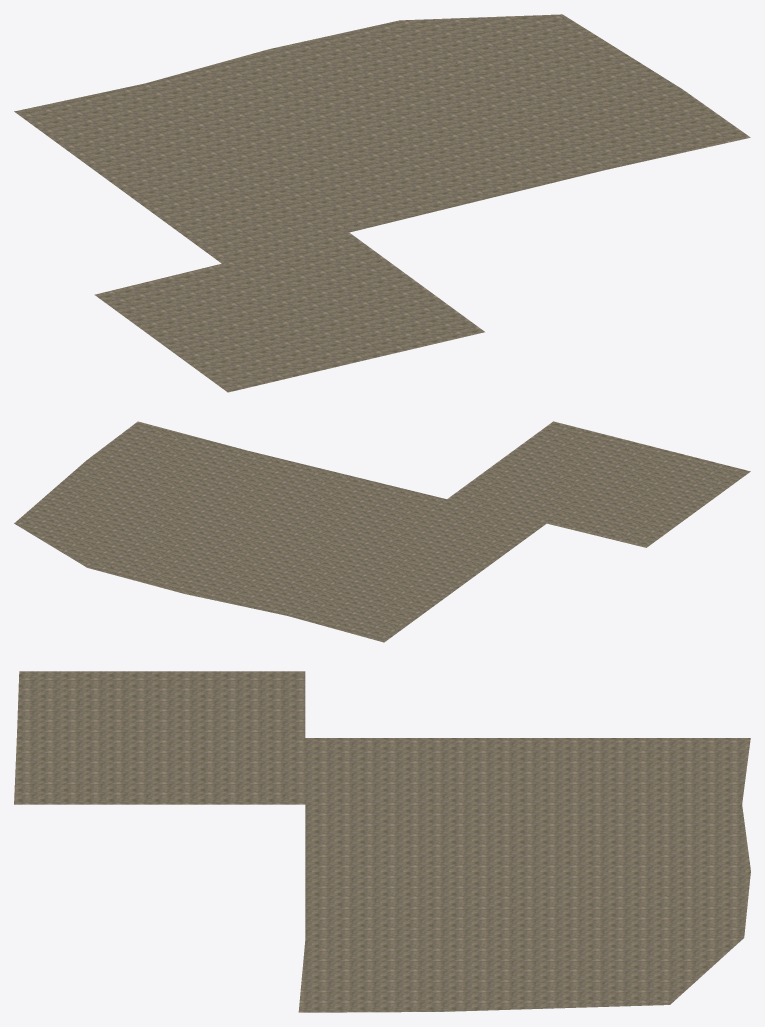
The model's file is cuntwland17_de_a.obj.
The picture shows the model from 3 angles, top to bottom: view 1: azimuth 30°, elevation 25°; view 2: azimuth 150°, elevation 25°; view 3: azimuth 270°, elevation 25°; orthographic projection. The views are drawn at different scales.
Parts seen in each view (by area): view 1: cuntwland17_de_a; view 2: cuntwland17_de_a; view 3: cuntwland17_de_a.
Boxes of the visible parts, left/top/right/bottom form: cuntwland17_de_a: left=14, top=14, right=750, bottom=392; cuntwland17_de_a: left=14, top=421, right=750, bottom=642; cuntwland17_de_a: left=14, top=671, right=750, bottom=1012.
Size of the model in its own units: 161 by 0 by 147.
1 material, 1 textured.
